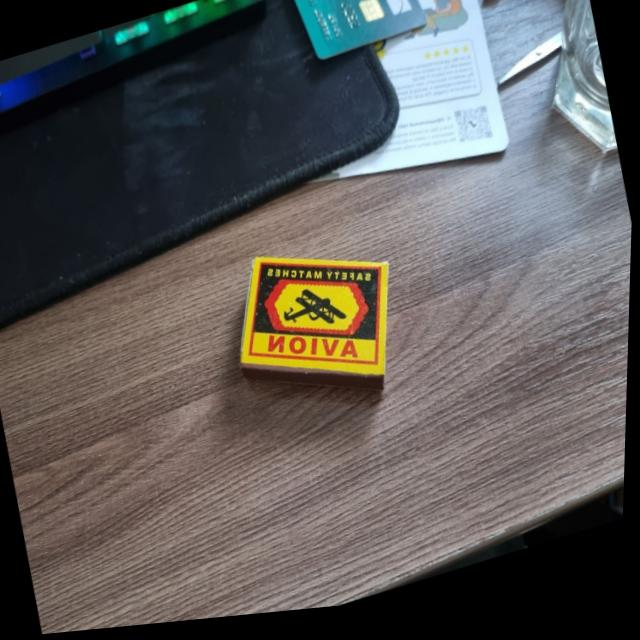match: (216, 221, 419, 441)
